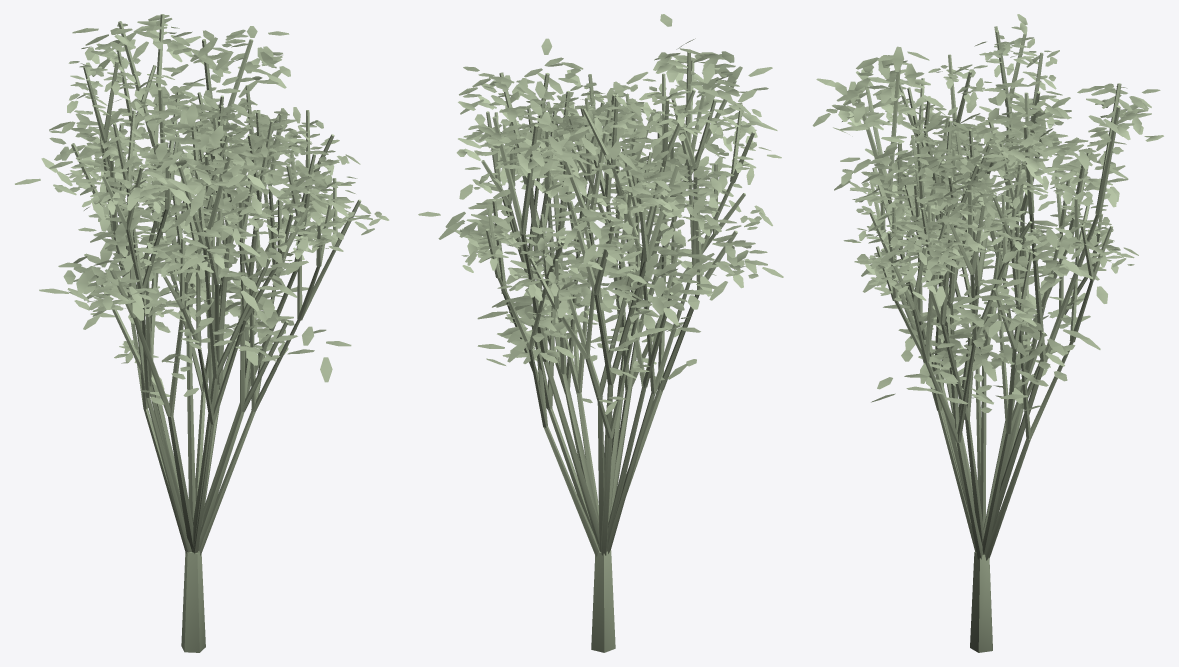
Rendered from tree_elm.glb.
3 renders of one model, left to right at view 1: azimuth 30°, elevation 25°; view 2: azimuth 150°, elevation 25°; view 3: azimuth 270°, elevation 25°, orthographic. The views are drawn at different scales.
Visible parts, largest first — view 1: tier1_foliage, tier2_bark, tier2_foliage, tier0_foliage, tier1_bark, tier0_bark; view 2: tier1_foliage, tier2_bark, tier0_foliage, tier1_bark, tier2_foliage, tier0_bark; view 3: tier1_foliage, tier2_foliage, tier2_bark, tier0_foliage, tier1_bark, tier0_bark.
Boxes of the visible parts, x1=… form: tier1_foliage: x1=15, y1=15, x2=351, y2=404; tier2_bark: x1=83, y1=49, x2=361, y2=555; tier2_foliage: x1=67, y1=34, x2=389, y2=363; tier0_foliage: x1=39, y1=88, x2=351, y2=382; tier1_bark: x1=71, y1=14, x2=314, y2=652; tier0_bark: x1=96, y1=123, x2=293, y2=552; tier1_foliage: x1=456, y1=38, x2=783, y2=380; tier2_bark: x1=481, y1=73, x2=754, y2=556; tier0_foliage: x1=418, y1=14, x2=777, y2=365; tier1_bark: x1=492, y1=72, x2=737, y2=652; tier2_foliage: x1=461, y1=78, x2=781, y2=414; tier0_bark: x1=486, y1=52, x2=736, y2=551; tier1_foliage: x1=834, y1=82, x2=1163, y2=404; tier2_foliage: x1=843, y1=14, x2=1138, y2=379; tier2_bark: x1=869, y1=26, x2=1112, y2=560; tier0_foliage: x1=812, y1=46, x2=1107, y2=412; tier1_bark: x1=872, y1=83, x2=1121, y2=652; tier0_bark: x1=857, y1=68, x2=1059, y2=554.
Size of the model in its own units: 0.5344 by 1 by 0.5462.
